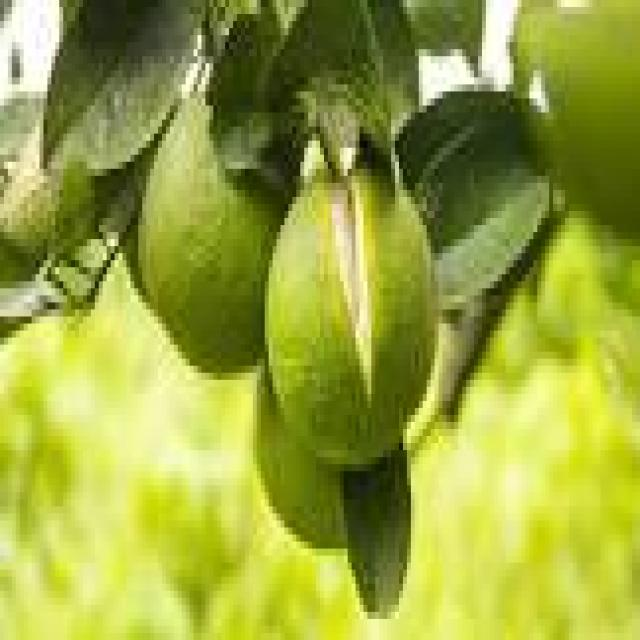apple: (258, 151, 440, 469), (138, 101, 292, 372)
